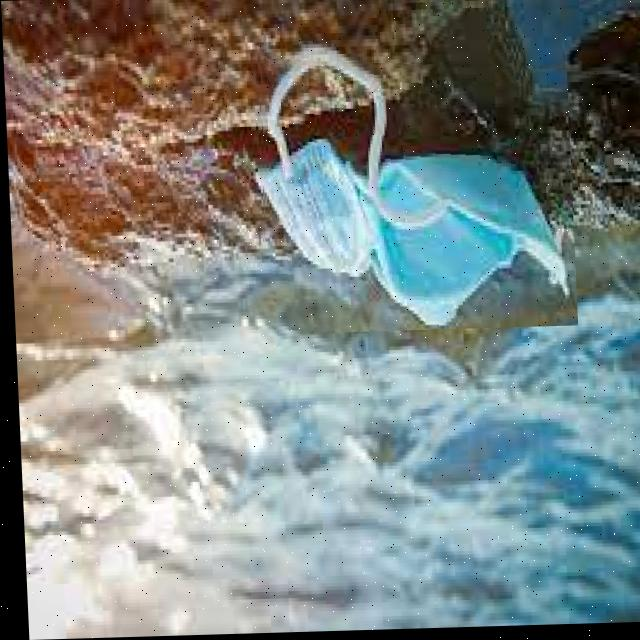litter: (252, 52, 574, 335)
